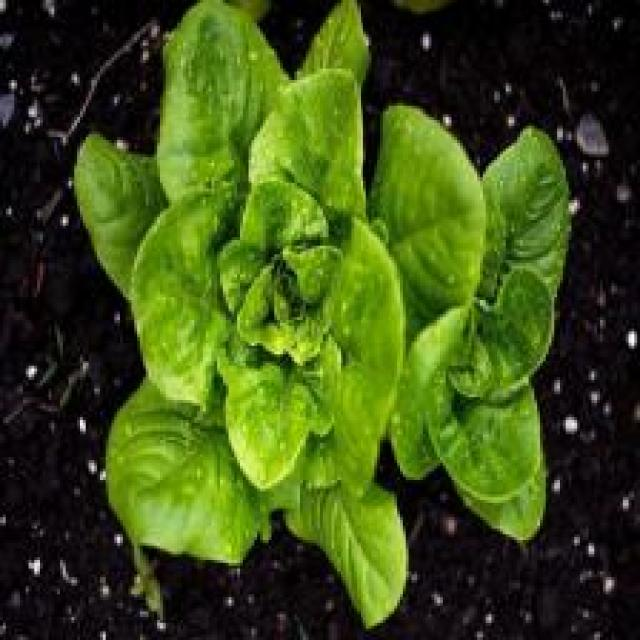Lettuce: (78, 62, 406, 578), (384, 140, 591, 540)
